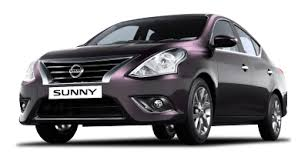Nissan: (21, 18, 287, 143)
